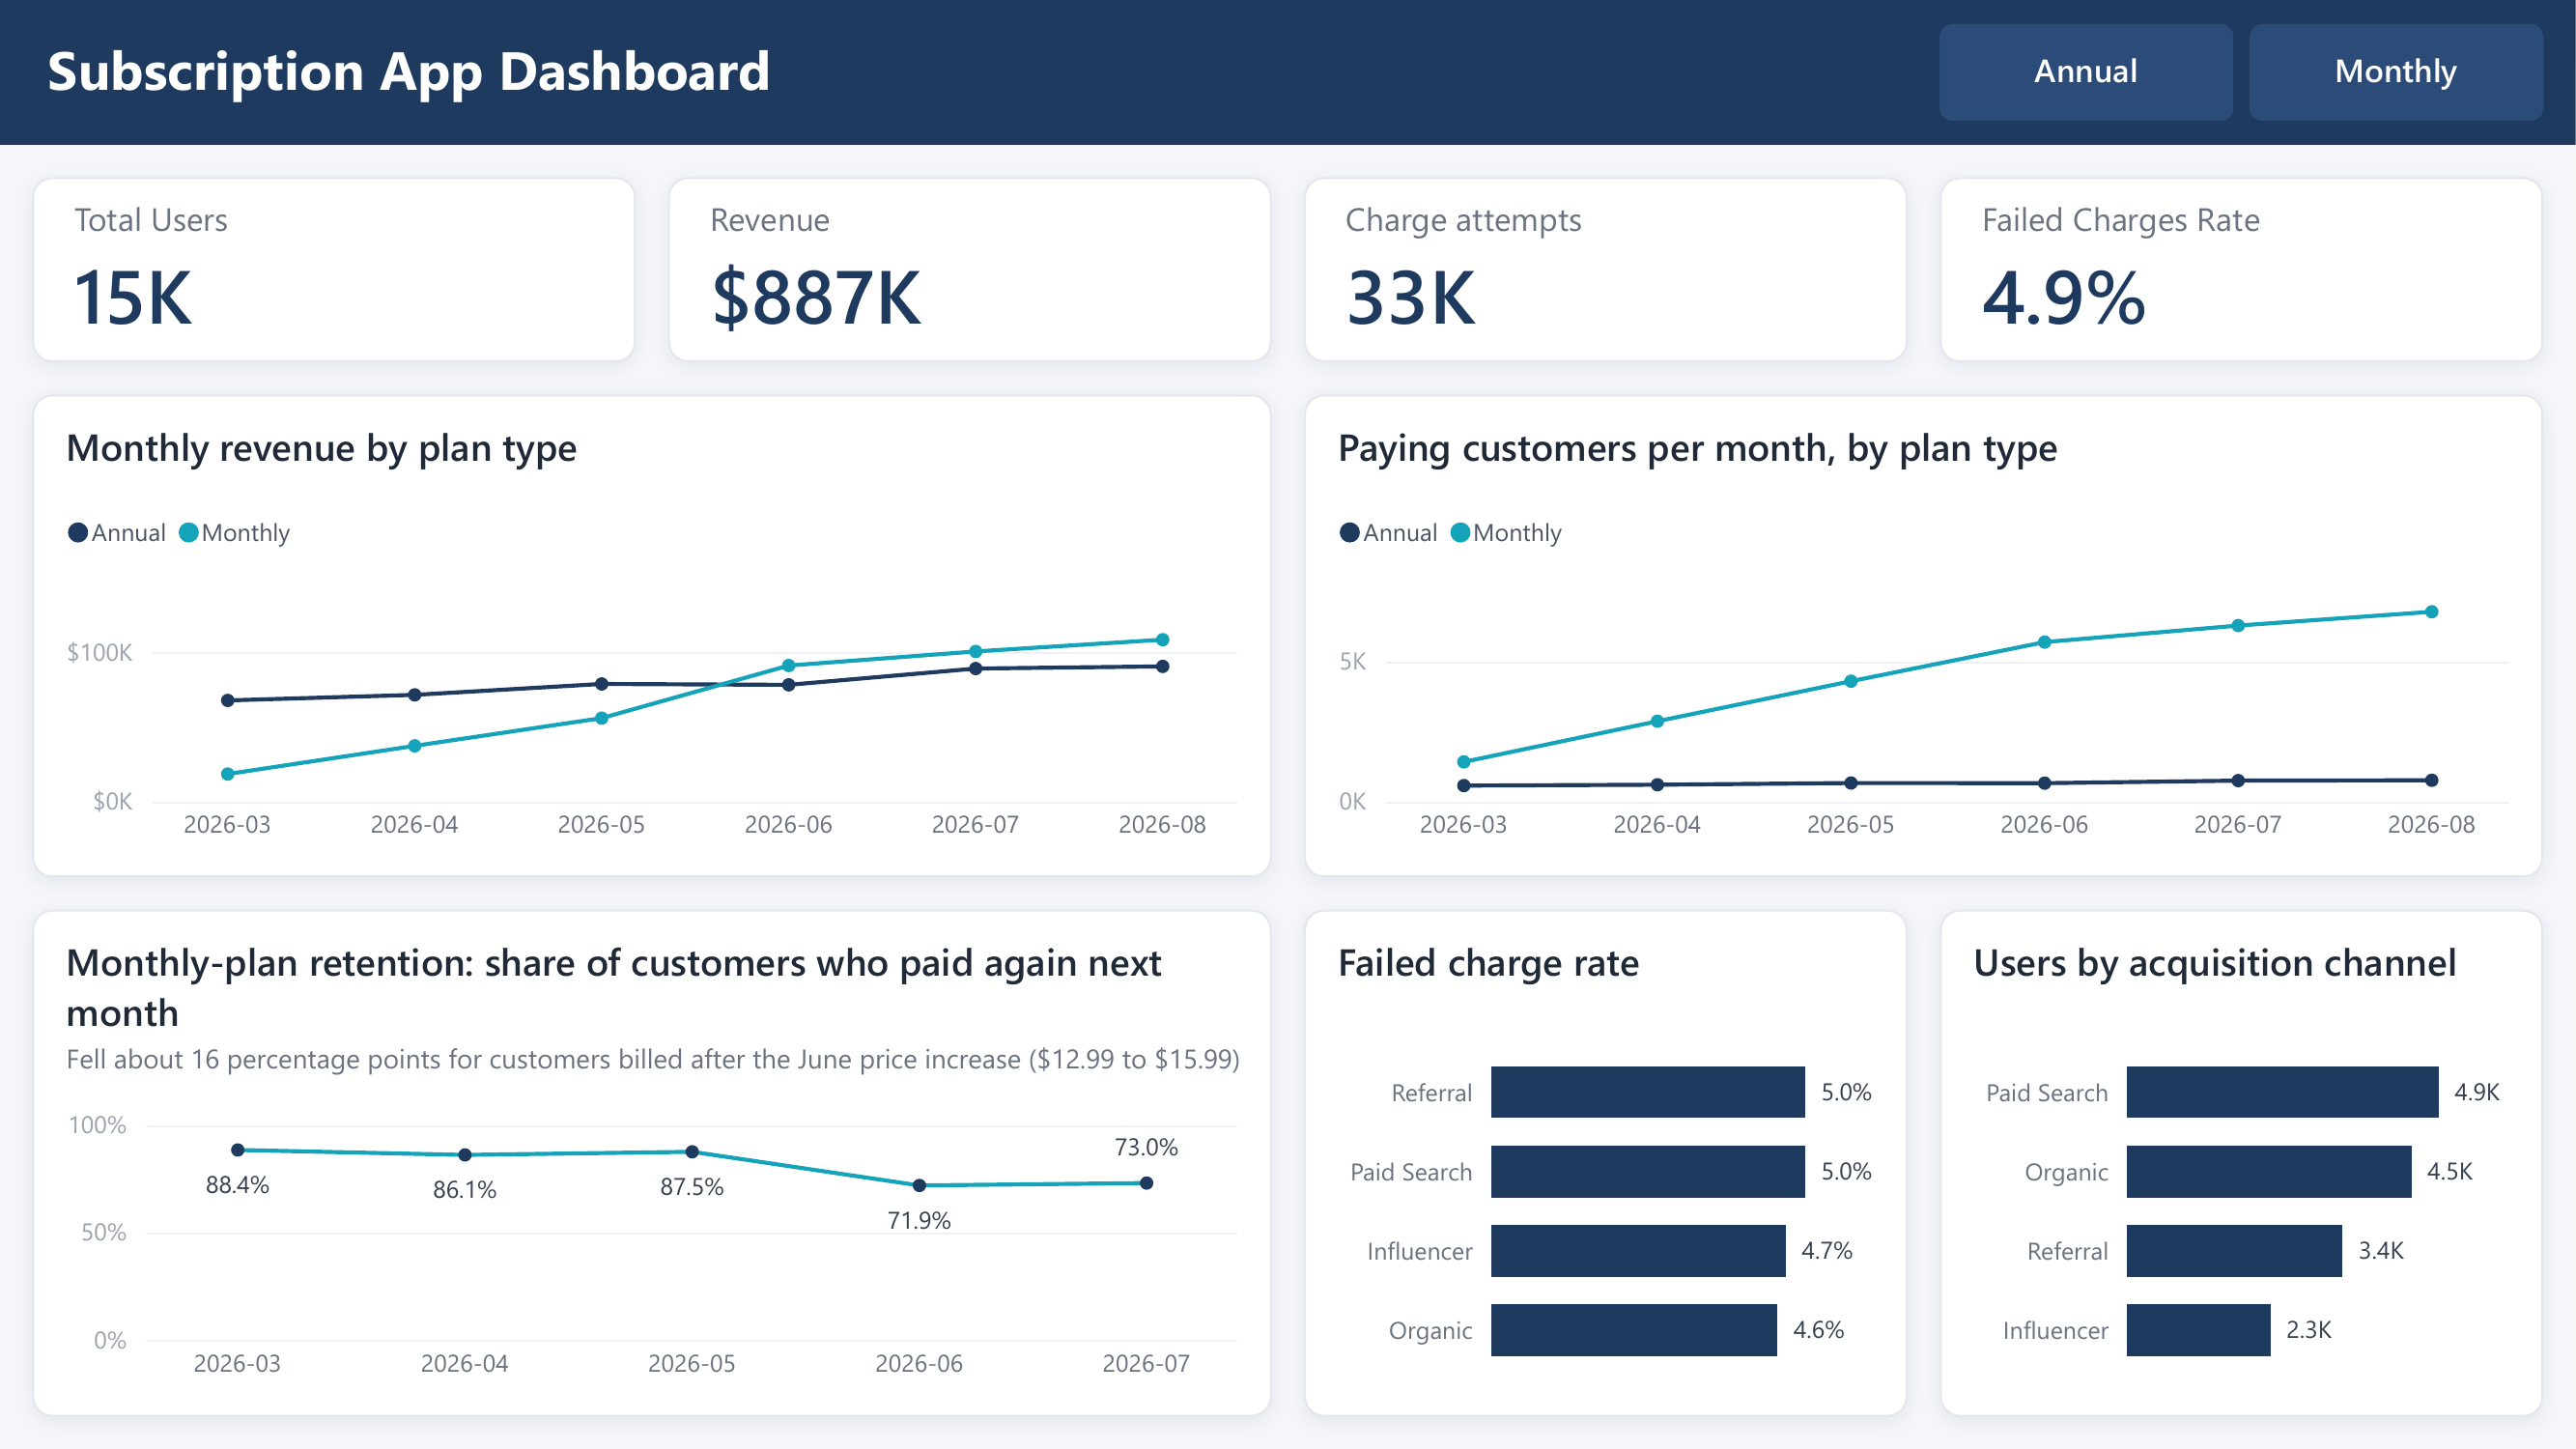

The page's visual inventory and layout, read from the dashboard file:
{"tool":"powerbi","page":{"name":"Page 1","canvas":[1280,720],"ordinal":0},"visuals":[{"type":"textbox","box":[0,0,1280,72],"z":0},{"type":"cardVisual","title":"Total users","fields":{"Data":["charges.Total Users"]},"box":[16,88,300,92],"z":0},{"type":"cardVisual","title":"Revenue (successful charges)","fields":{"Data":["charges.Total Revenue"]},"box":[332,88,300,92],"z":1000},{"type":"cardVisual","title":"Charge attempts","fields":{"Data":["charges.Total Charges"]},"box":[648,88,300,92],"z":2000},{"type":"cardVisual","title":"Failed charge rate","fields":{"Data":["charges.Failed Charges Rate"]},"box":[964,88,300,92],"z":3000},{"type":"clusteredBarChart","title":"Users by acquisition channel","fields":{"Category":["users.channel"],"Y":["charges.Total Users"]},"box":[964,452,300,252],"z":4000},{"type":"clusteredBarChart","title":"Failed charge rate","fields":{"Category":["users.channel"],"Y":["charges.Failed Charges Rate"]},"box":[648,452,300,252],"z":5000},{"type":"lineChart","title":"Monthly revenue by plan type","fields":{"Category":["charges.billing_period"],"Series":["users.plan_type"],"Y":["charges.Total Revenue"]},"box":[16,196,616,240],"z":6000},{"type":"lineChart","title":"Paying customers per month, by plan type","fields":{"Category":["charges.billing_period"],"Series":["users.plan_type"],"Y":["charges.Paying Users"]},"box":[648,196,616,240],"z":7000},{"type":"lineChart","title":"Monthly-plan retention: share of customers who paid again next month","fields":{"Category":["charges.billing_period"],"Y":["charges.Retention Rate"]},"box":[16,452,616,252],"z":8000},{"type":"advancedSlicerVisual","fields":{"Values":["users.plan_type"]},"box":[964,12,300,48],"z":20000}]}

Visuals, with their boxes in screenshot pixels (x1, y1, x2, y2), scaled from the page's 1280x720 canvas onto the 2576x1449 screenshot:
textbox: [left=0, top=0, right=2575, bottom=145]
"Total users" cardVisual: [left=32, top=177, right=636, bottom=362]
"Revenue (successful charges)" cardVisual: [left=668, top=177, right=1272, bottom=362]
"Charge attempts" cardVisual: [left=1304, top=177, right=1908, bottom=362]
"Failed charge rate" cardVisual: [left=1940, top=177, right=2544, bottom=362]
"Users by acquisition channel" clusteredBarChart: [left=1940, top=910, right=2544, bottom=1417]
"Failed charge rate" clusteredBarChart: [left=1304, top=910, right=1908, bottom=1417]
"Monthly revenue by plan type" lineChart: [left=32, top=394, right=1272, bottom=877]
"Paying customers per month, by plan type" lineChart: [left=1304, top=394, right=2544, bottom=877]
"Monthly-plan retention: share of customers who paid again next month" lineChart: [left=32, top=910, right=1272, bottom=1417]
advancedSlicerVisual - users.plan_type: [left=1940, top=24, right=2544, bottom=121]
